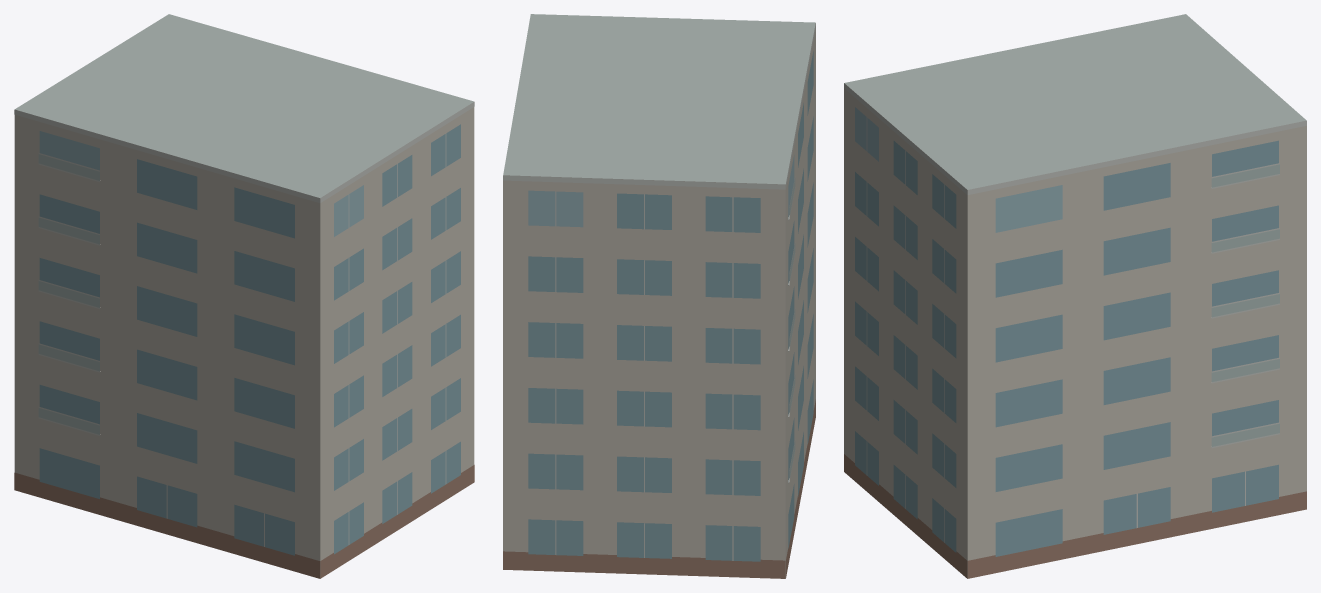
File: survey-upis-32741954.glb
The picture shows the model from 3 angles, left to right: view 1: azimuth 30°, elevation 25°; view 2: azimuth 150°, elevation 25°; view 3: azimuth 270°, elevation 25°; orthographic projection. The views are drawn at different scales.
Visible parts, largest first — view 1: survey-upis-32741954.tmp; view 2: survey-upis-32741954.tmp; view 3: survey-upis-32741954.tmp.
Part boxes in pixels (x1,y1,x2,y2): survey-upis-32741954.tmp: [14, 14, 474, 578]; survey-upis-32741954.tmp: [503, 14, 815, 578]; survey-upis-32741954.tmp: [844, 14, 1306, 578].
Bounding box in the file's own units: 17.58 × 18.1 × 19.53.
